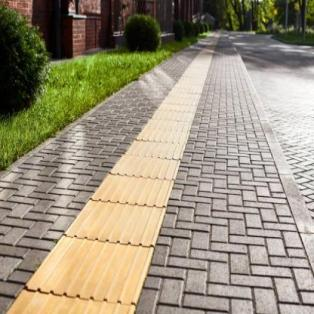Podoctatil: (1, 21, 239, 312)
